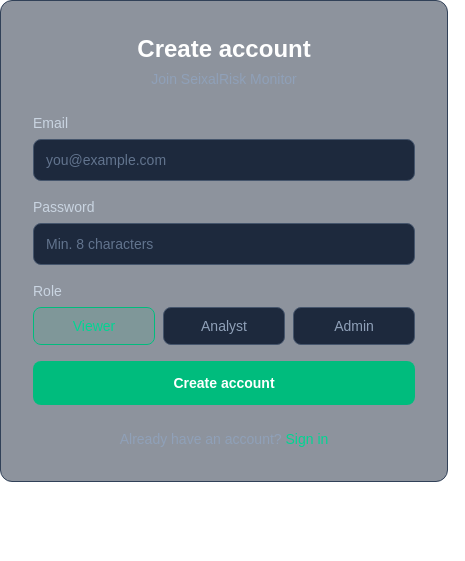
Scenario: RegisterPage › handles network error during registration
In the field labelled "Email": (224, 160) [33, 139, 415, 181], type "test@example.com"
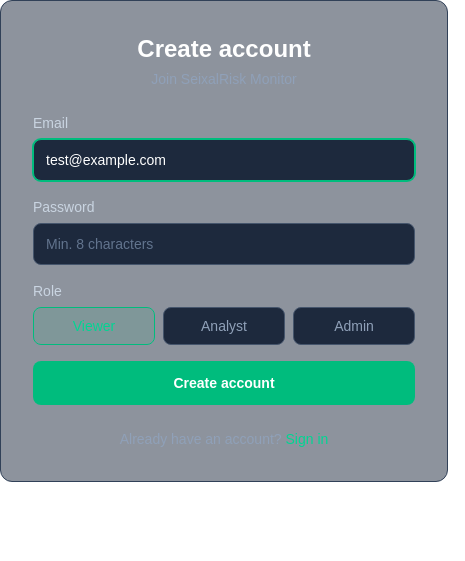
In the password field labelled "Password": (224, 244) [33, 223, 415, 265], type "password123"
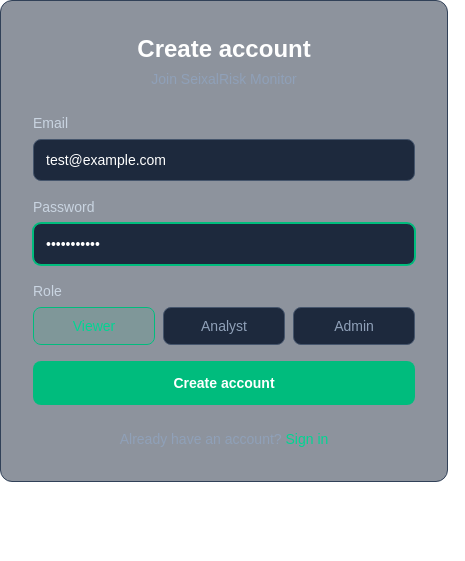
Click the button "Create account": (224, 383) [33, 361, 415, 405]
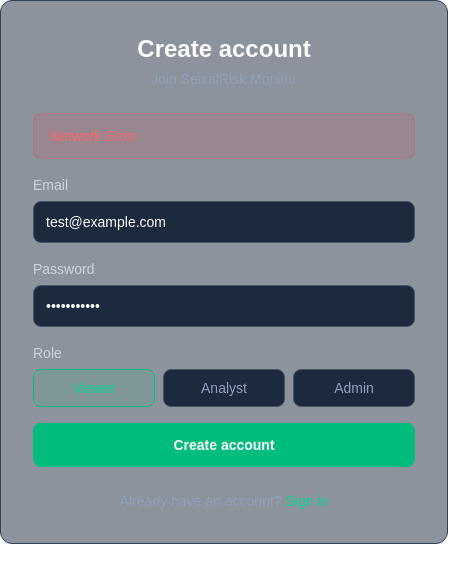
Check: the text "Network Error" is shown, box [33, 113, 415, 159]
